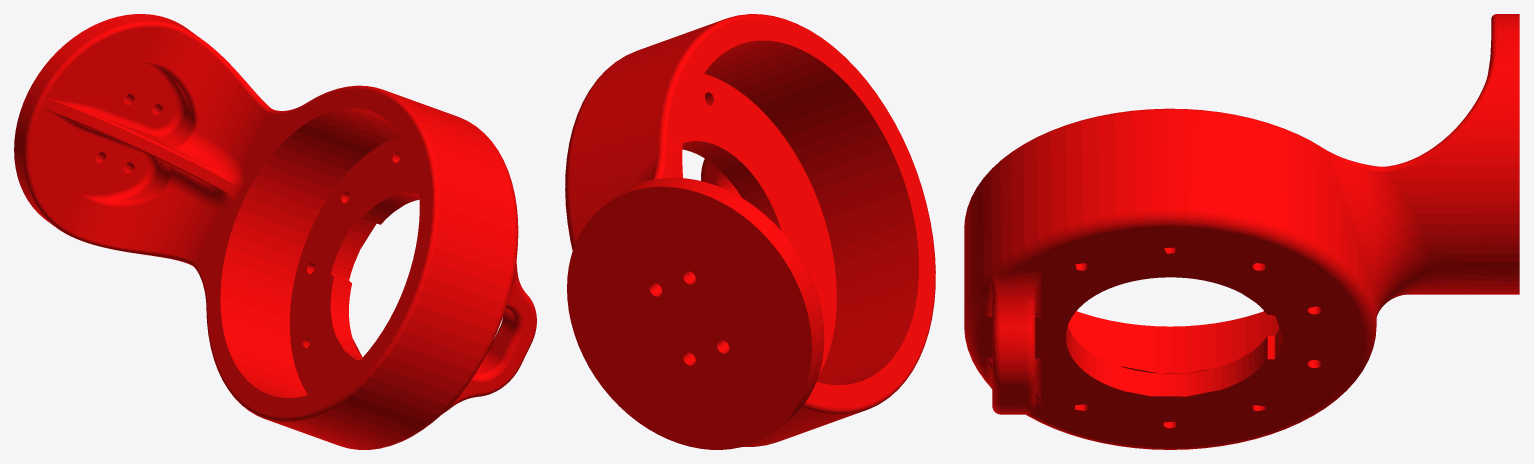
The model's file is legs_1_left_leg_1_thigh_rotate_left_1.glb.
The picture shows the model from 3 angles, left to right: view 1: azimuth 30°, elevation 25°; view 2: azimuth 150°, elevation 25°; view 3: azimuth 270°, elevation 25°; orthographic projection. The views are drawn at different scales.
Parts seen in each view (by area): view 1: legs_1_left_leg_1_thigh_rotate_left_1.obj; view 2: legs_1_left_leg_1_thigh_rotate_left_1.obj; view 3: legs_1_left_leg_1_thigh_rotate_left_1.obj.
Boxes of the visible parts, x1=… form: legs_1_left_leg_1_thigh_rotate_left_1.obj: x1=14, y1=14, x2=536, y2=449; legs_1_left_leg_1_thigh_rotate_left_1.obj: x1=565, y1=14, x2=935, y2=449; legs_1_left_leg_1_thigh_rotate_left_1.obj: x1=964, y1=14, x2=1519, y2=449.
Size of the model in its own units: 0.1507 by 0.1485 by 0.194.
